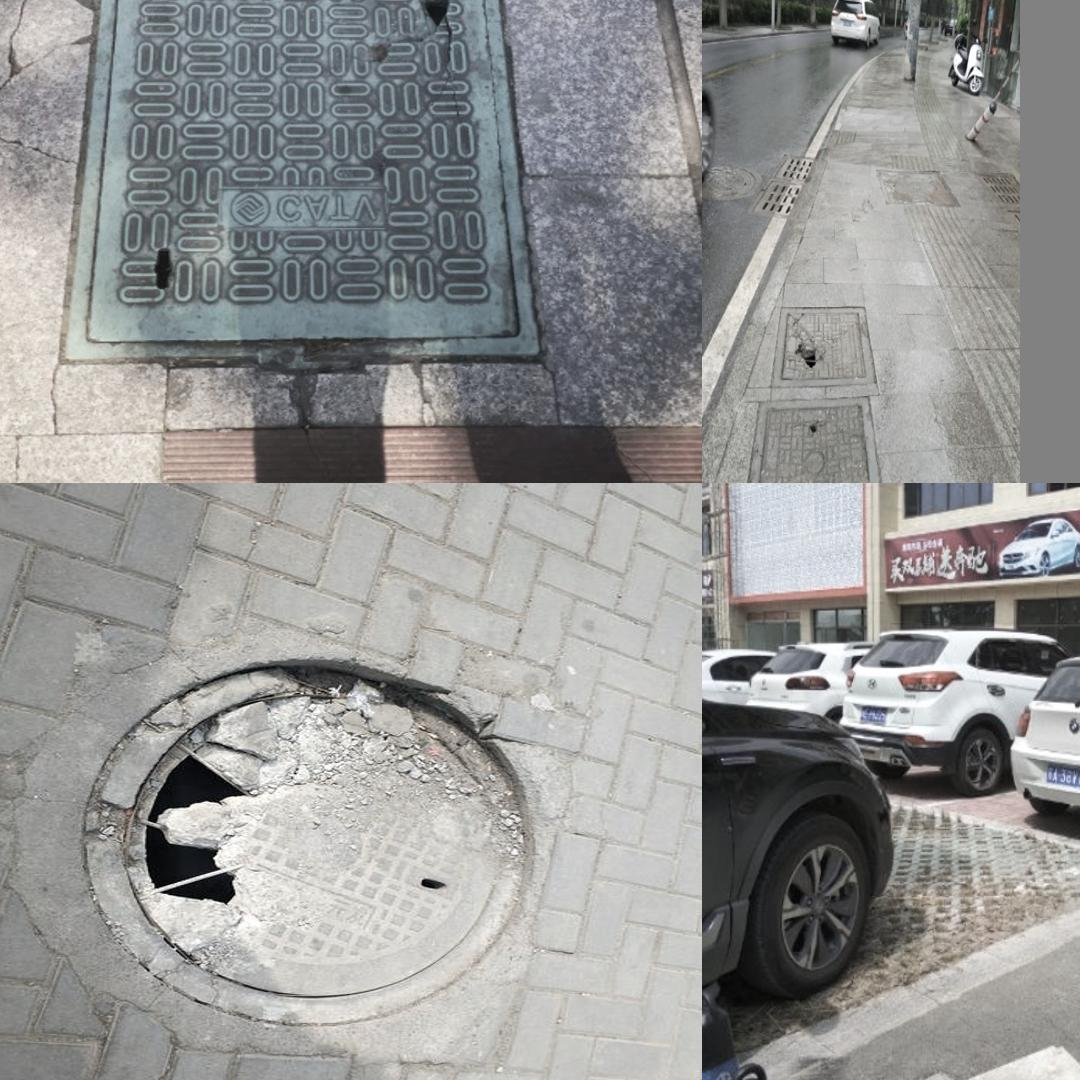broke: (64, 631, 538, 1062), (66, 0, 542, 360), (744, 396, 882, 483), (768, 306, 879, 385)
